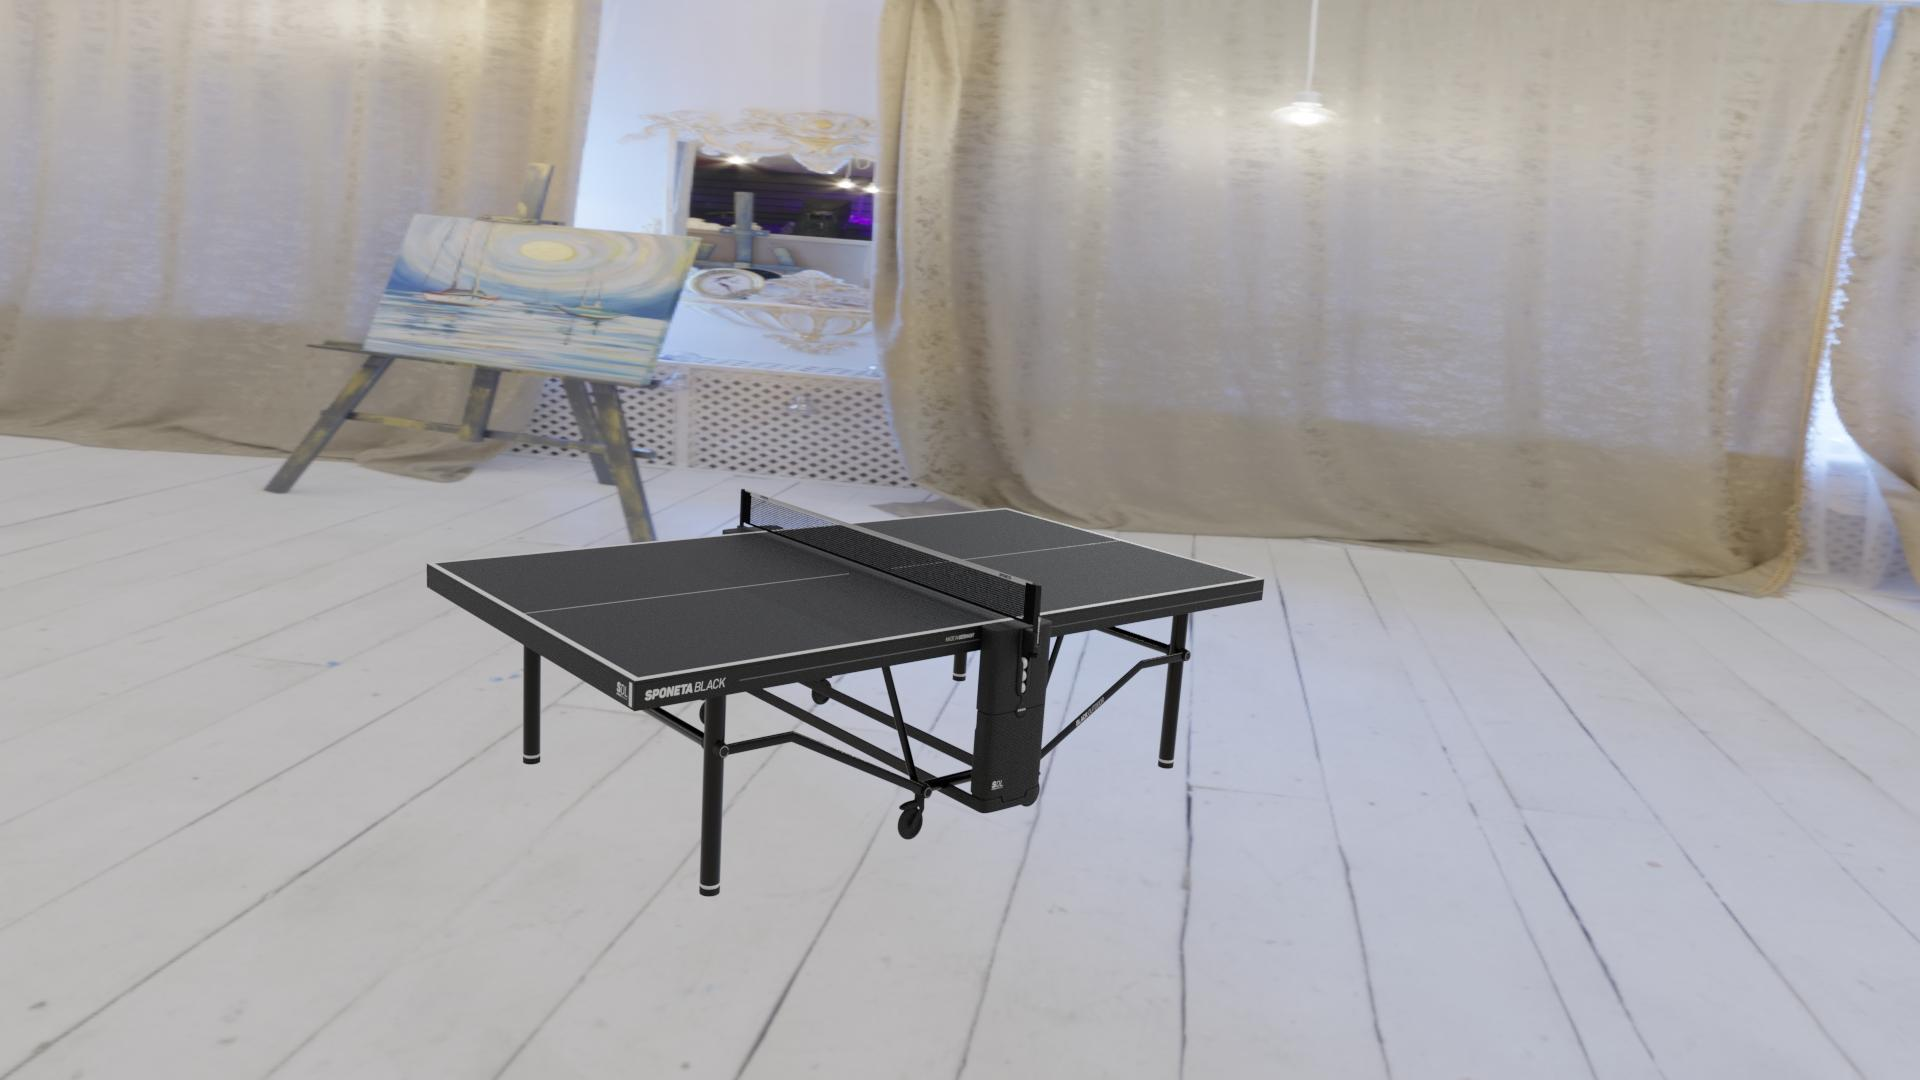table: (434, 509, 1258, 678)
